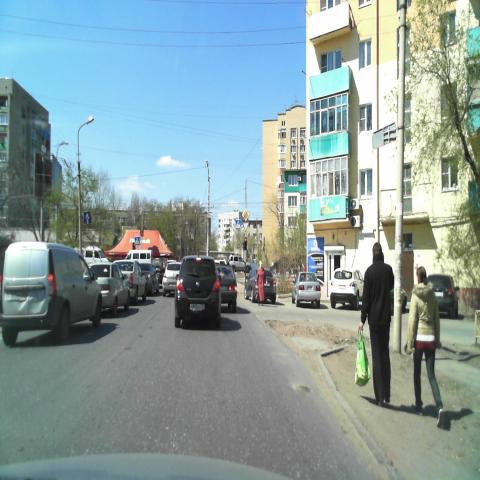5_6: (83, 210, 91, 224)
